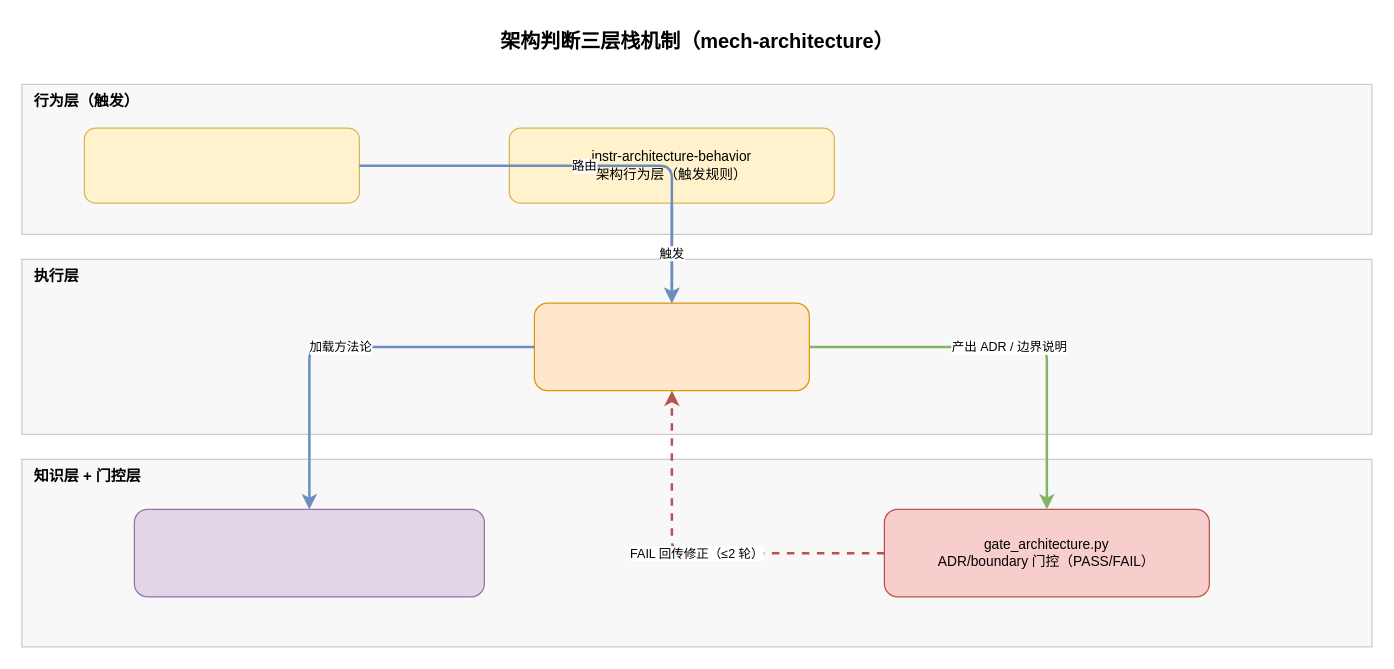
This 1394x669 diagram has some shape labels left out. The shapes that lost their labels are listed below. From the top down, each one's centre as x and y in pixels, then its label:
point (221, 165): command-arch /arch 强制入口
point (671, 346): agent-architect-worker 架构判断子Agent（可见）
point (308, 552): skill-architecture-judgment 方法论知识包（167 节点图谱）
